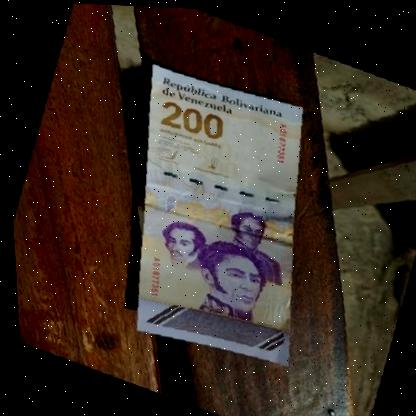two_hundred-front-vef: (86, 59, 347, 374)
